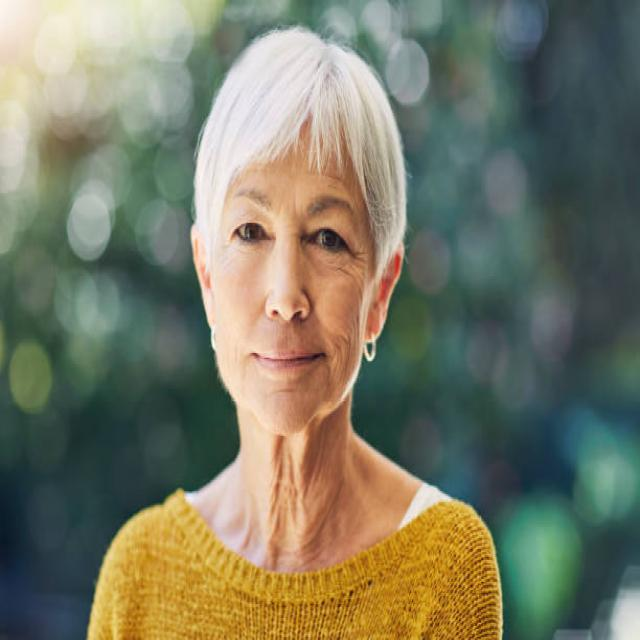Wrinkles: (336, 267, 363, 302), (332, 342, 343, 366), (341, 336, 350, 361), (328, 366, 337, 388), (356, 314, 360, 352), (352, 320, 355, 370), (353, 257, 369, 265), (338, 178, 347, 188), (353, 250, 370, 255), (343, 363, 347, 383), (314, 173, 329, 175)
